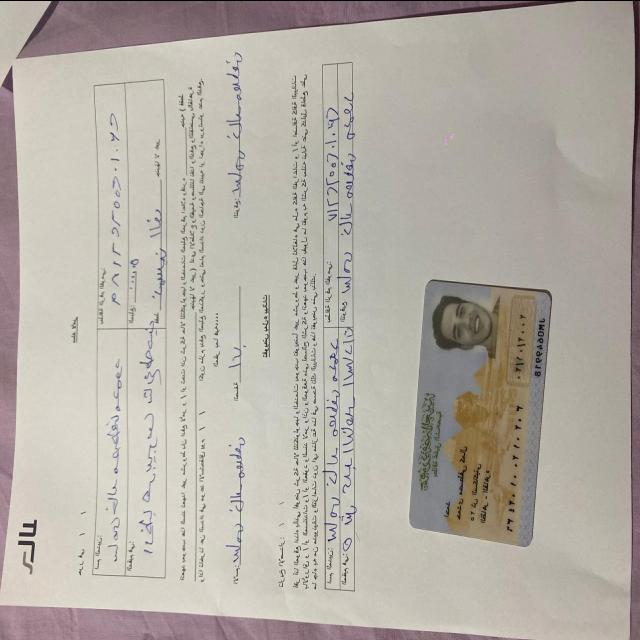id_card: (406, 276, 558, 553)
